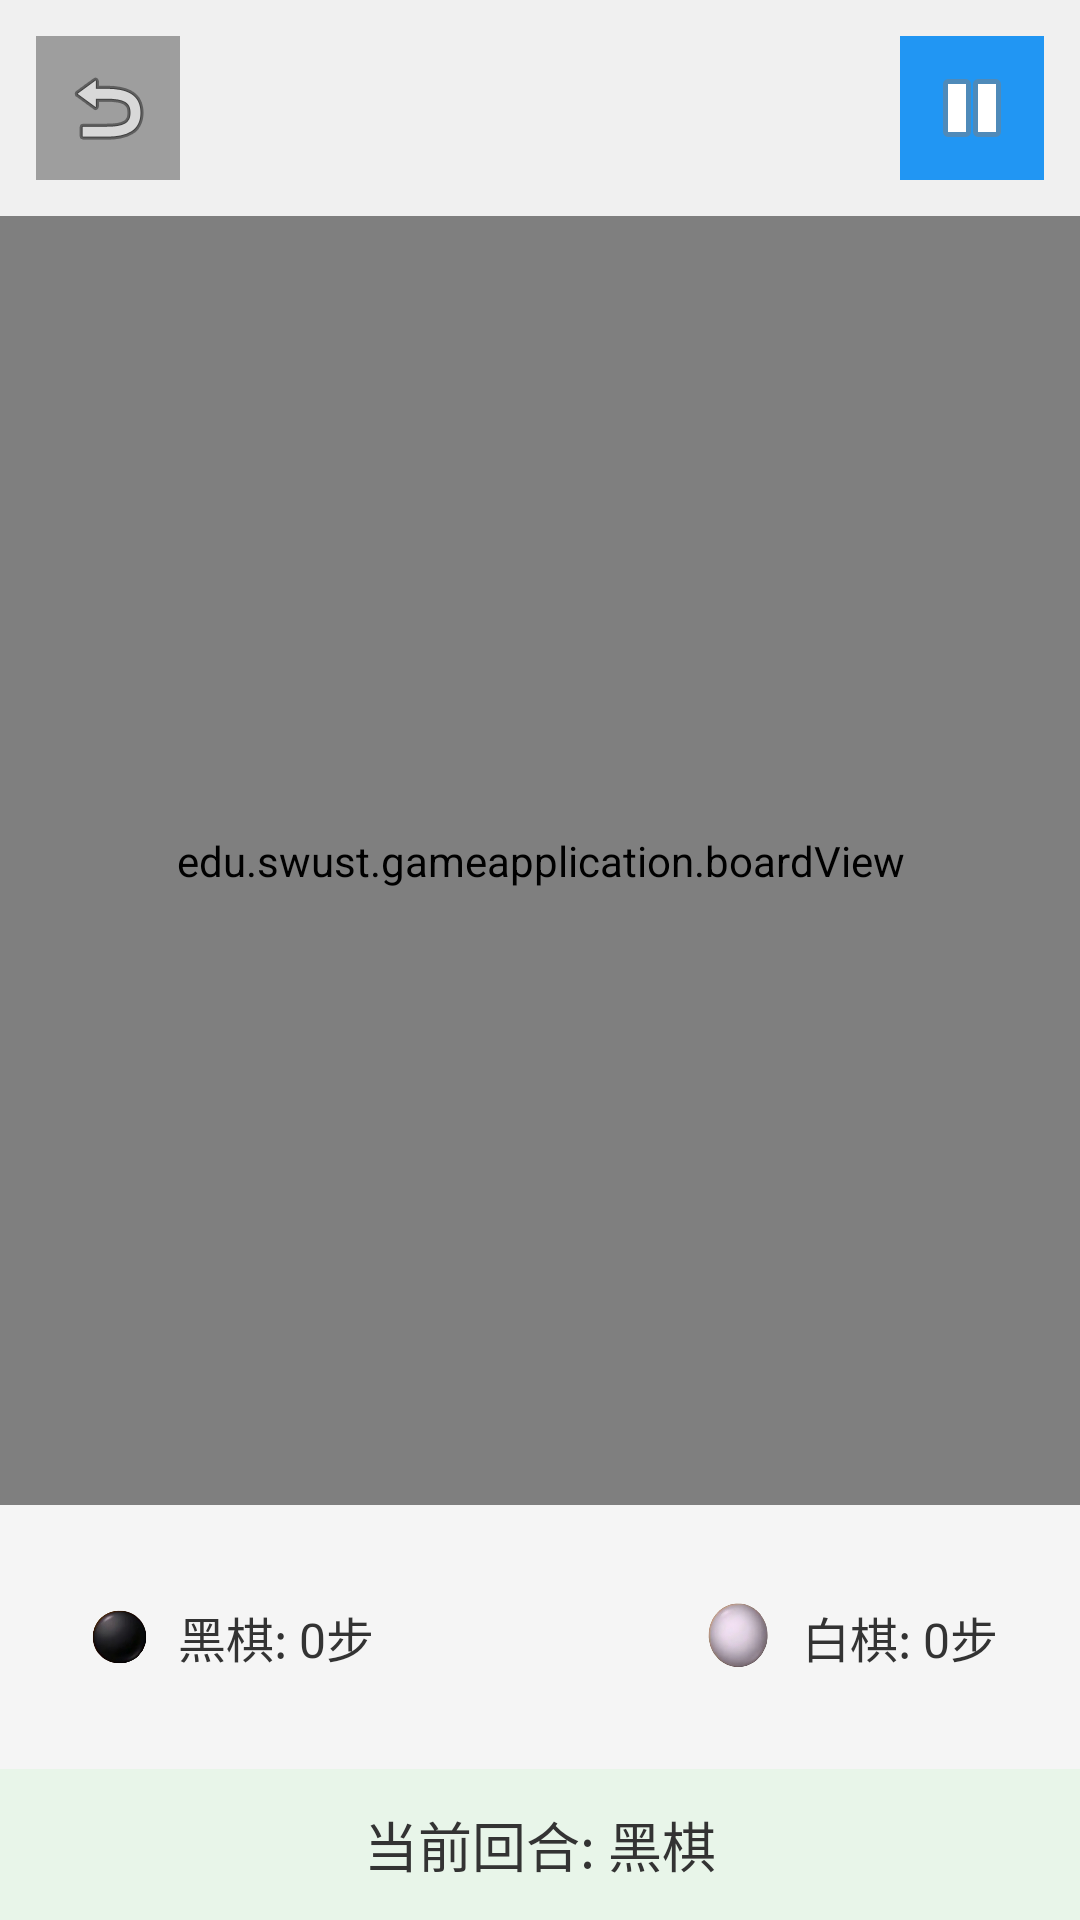

Named icons in this screenshot (1080w x 1920h) and their bounding boxes, (x1, y1, x2, y2):
stone: (708, 1603, 768, 1667), (93, 1611, 146, 1663)
暂停: (900, 36, 1044, 180)
返回: (36, 36, 180, 180)
